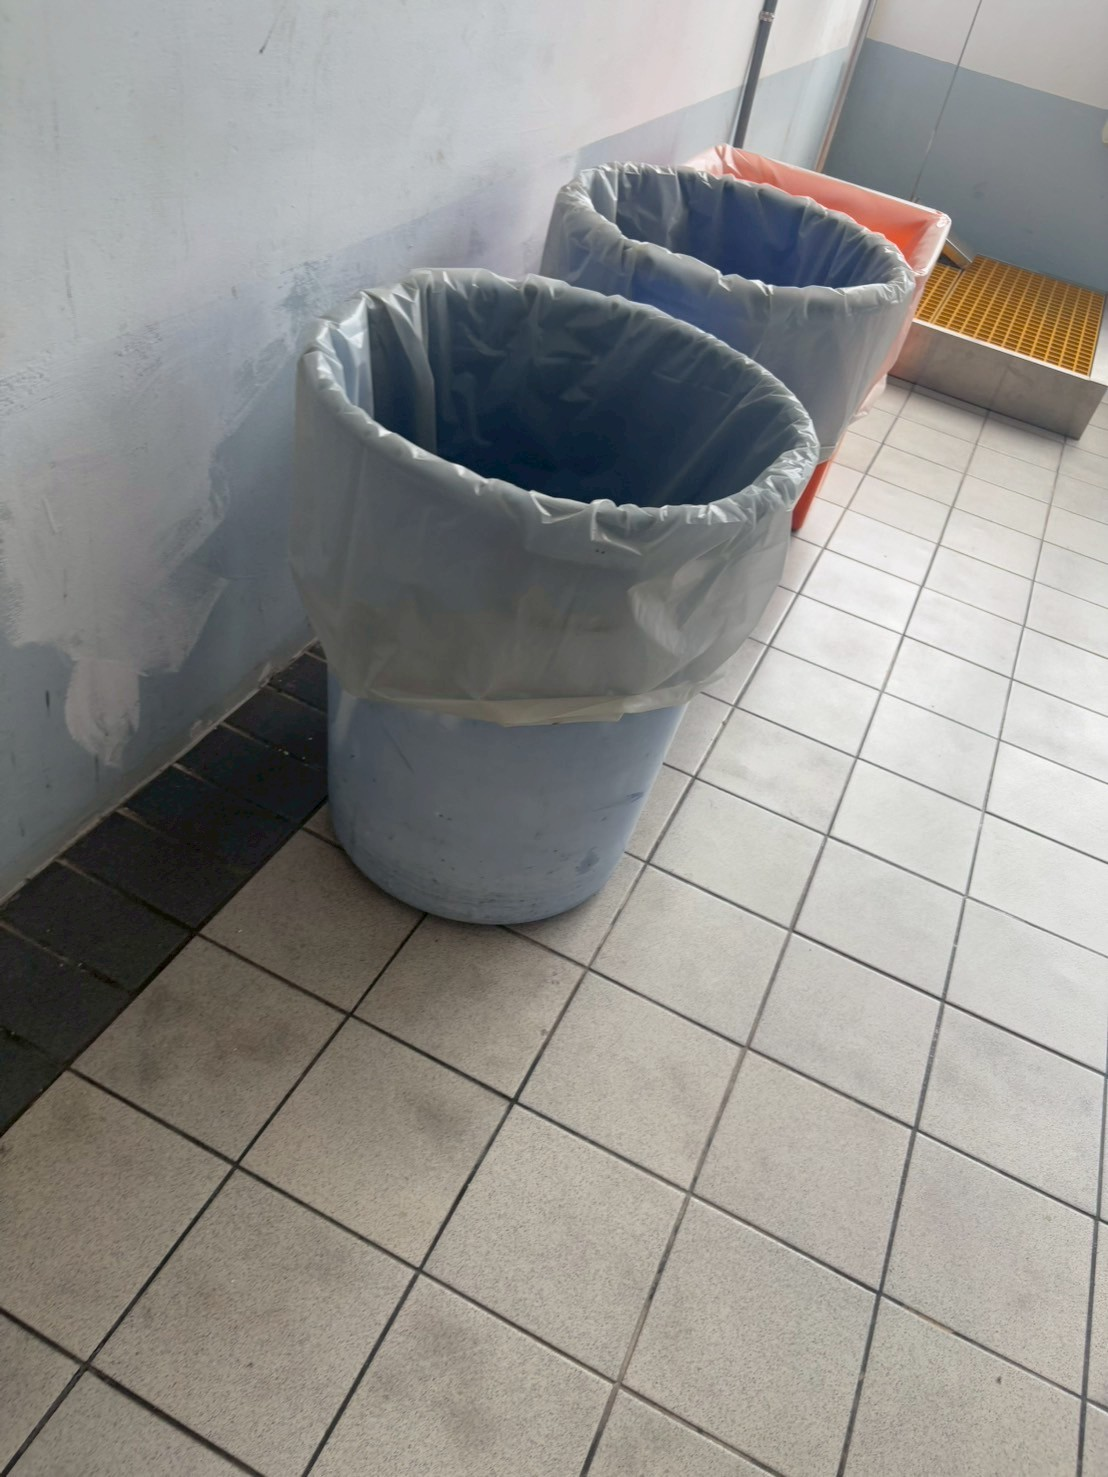normal_bin: (262, 253, 834, 967)
